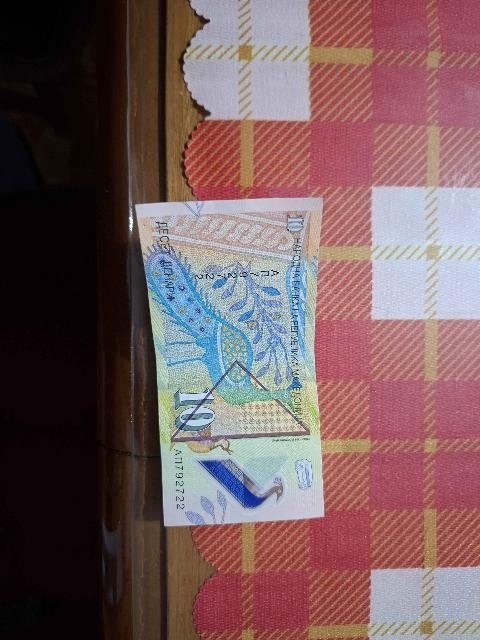10_note: (136, 199, 323, 525)
